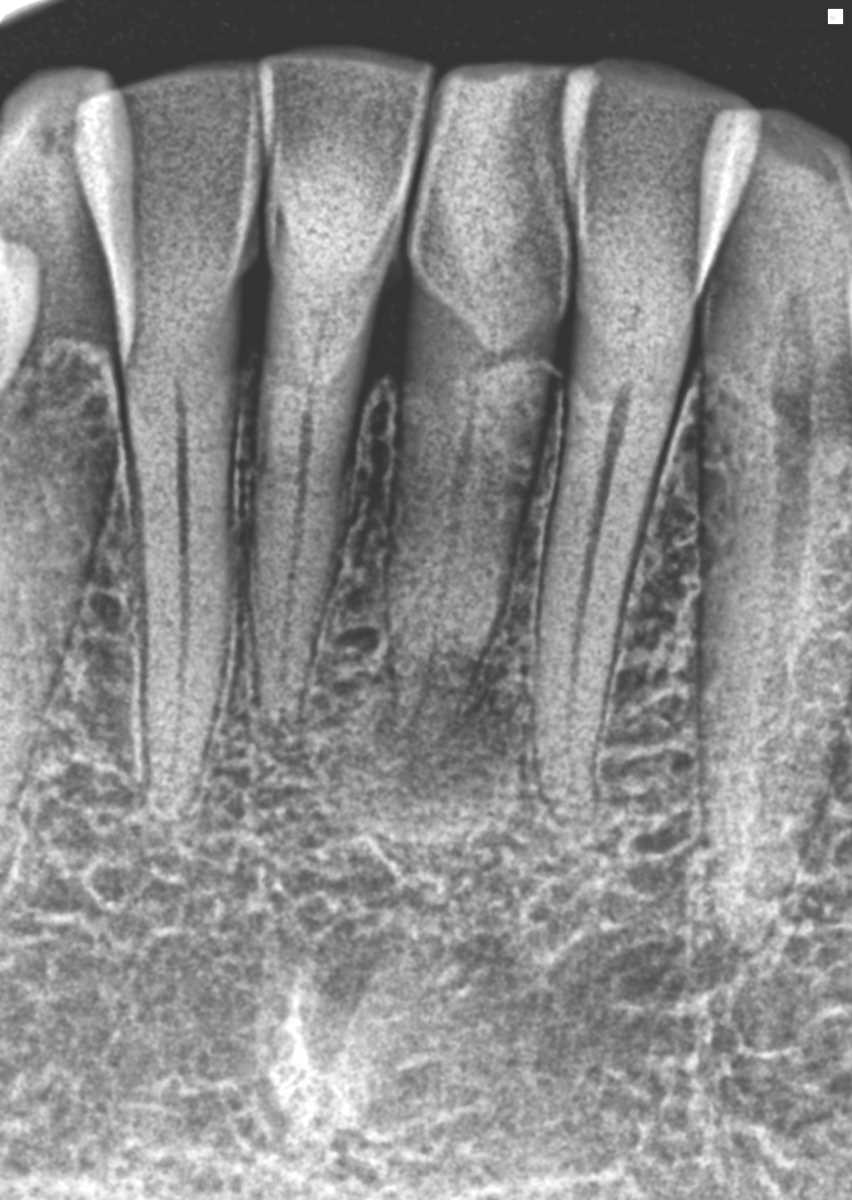Apical Lesion: (371, 666, 516, 803)
Main Canal: (409, 380, 485, 733), (750, 400, 809, 851), (562, 390, 627, 797), (277, 384, 314, 714), (164, 387, 192, 782)
Main Root: (686, 391, 852, 953), (533, 367, 694, 830), (390, 373, 548, 752), (118, 375, 242, 820), (0, 407, 119, 850), (245, 371, 361, 746)
